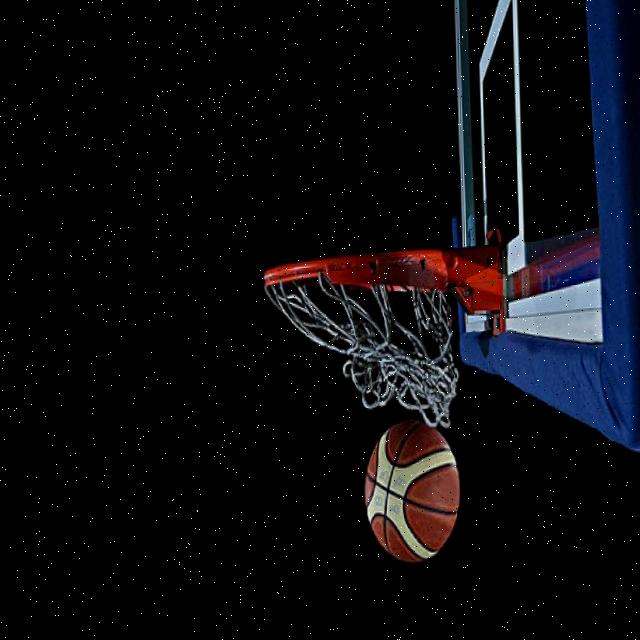basketball: (363, 412, 464, 571)
hoop: (264, 239, 465, 445)
